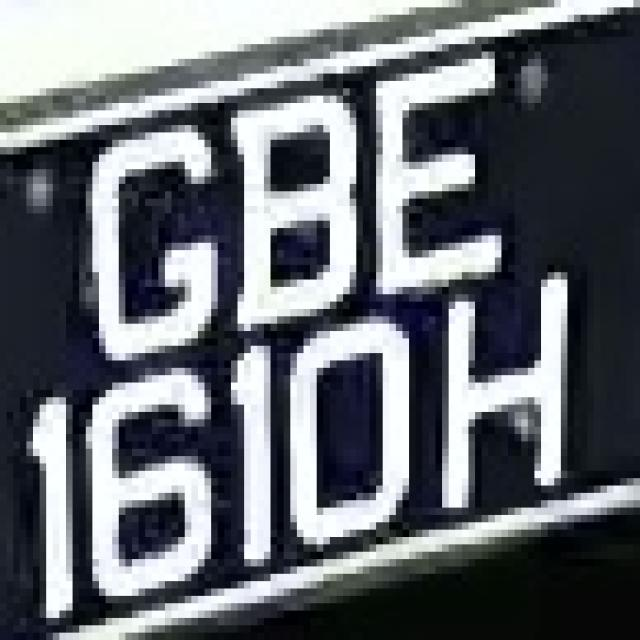0: (270, 324, 429, 559)
1: (237, 302, 297, 610), (0, 4, 1, 8)
6: (72, 368, 204, 610)
B: (211, 59, 370, 346)
E: (369, 36, 495, 302)
G: (79, 110, 238, 360)
H: (436, 272, 588, 537)
